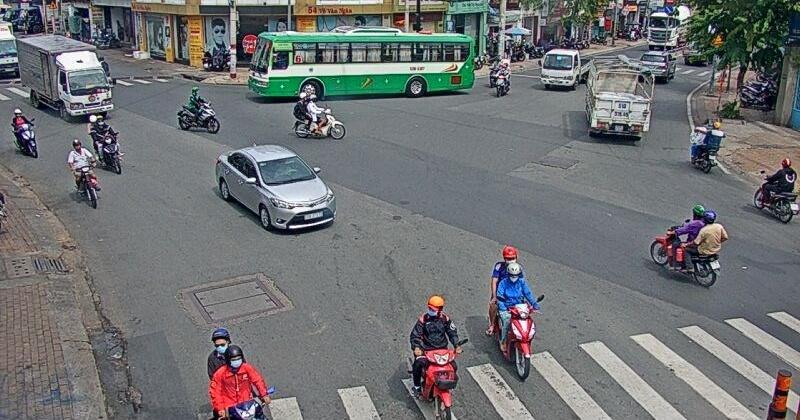xe buyt: (247, 26, 472, 99)
xe hoi: (215, 143, 336, 233)
xe may: (487, 245, 545, 380), (408, 295, 469, 420), (648, 204, 728, 287), (752, 157, 800, 222), (292, 91, 347, 141), (67, 138, 100, 209), (88, 114, 123, 174), (177, 85, 220, 133), (691, 120, 723, 174), (9, 109, 38, 159), (494, 63, 510, 97)
xe tai: (16, 35, 114, 116)
